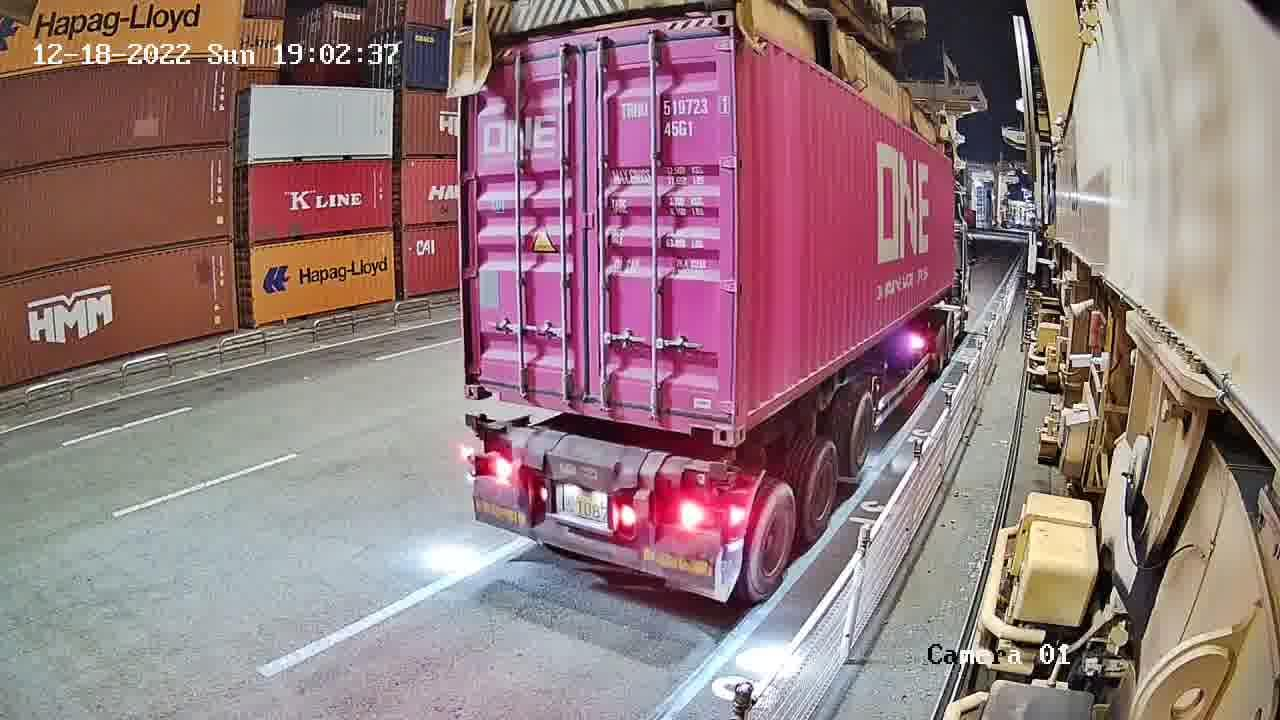Chassis: (464, 417, 725, 487)
Cone: (710, 460, 730, 495), (467, 412, 484, 437)
Hole_L: (737, 382, 768, 447), (463, 359, 502, 403)
Hole_R: (688, 393, 736, 447)
Tire: (744, 487, 798, 595), (800, 444, 841, 540), (844, 395, 874, 473)
